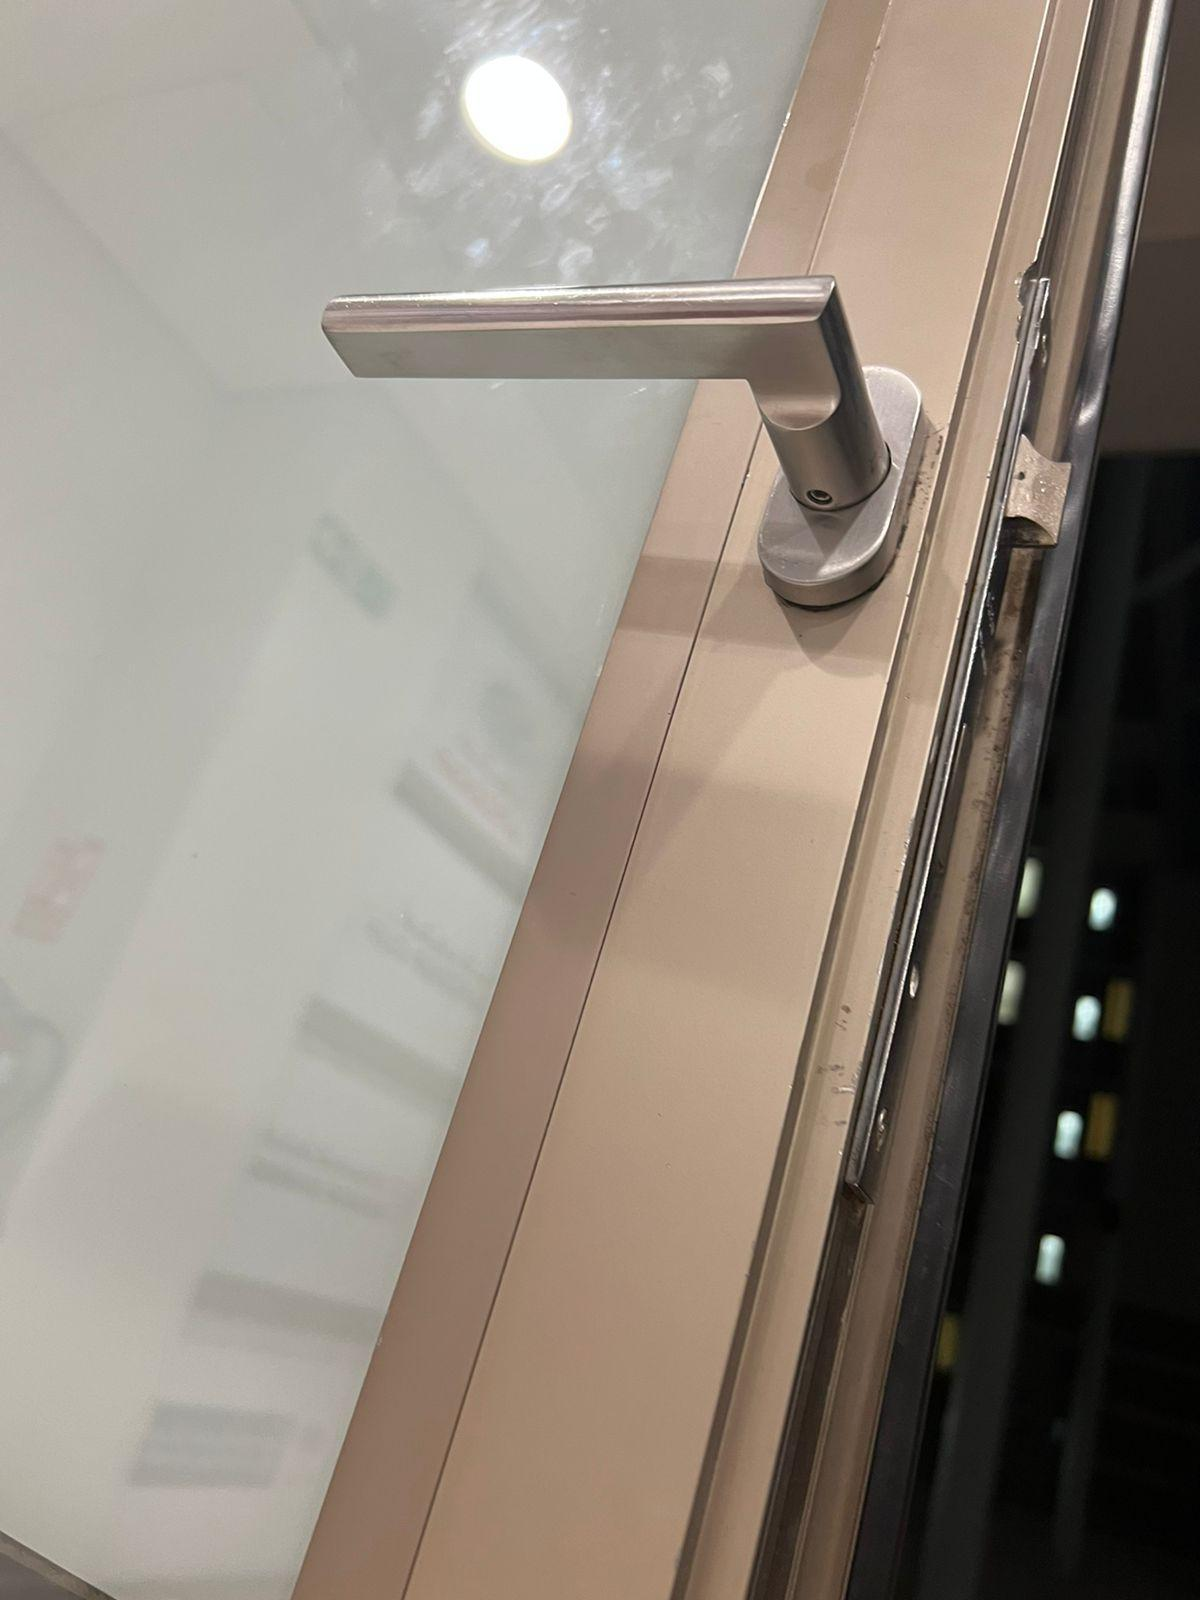door: (21, 0, 993, 1582)
handle: (321, 271, 933, 625)
